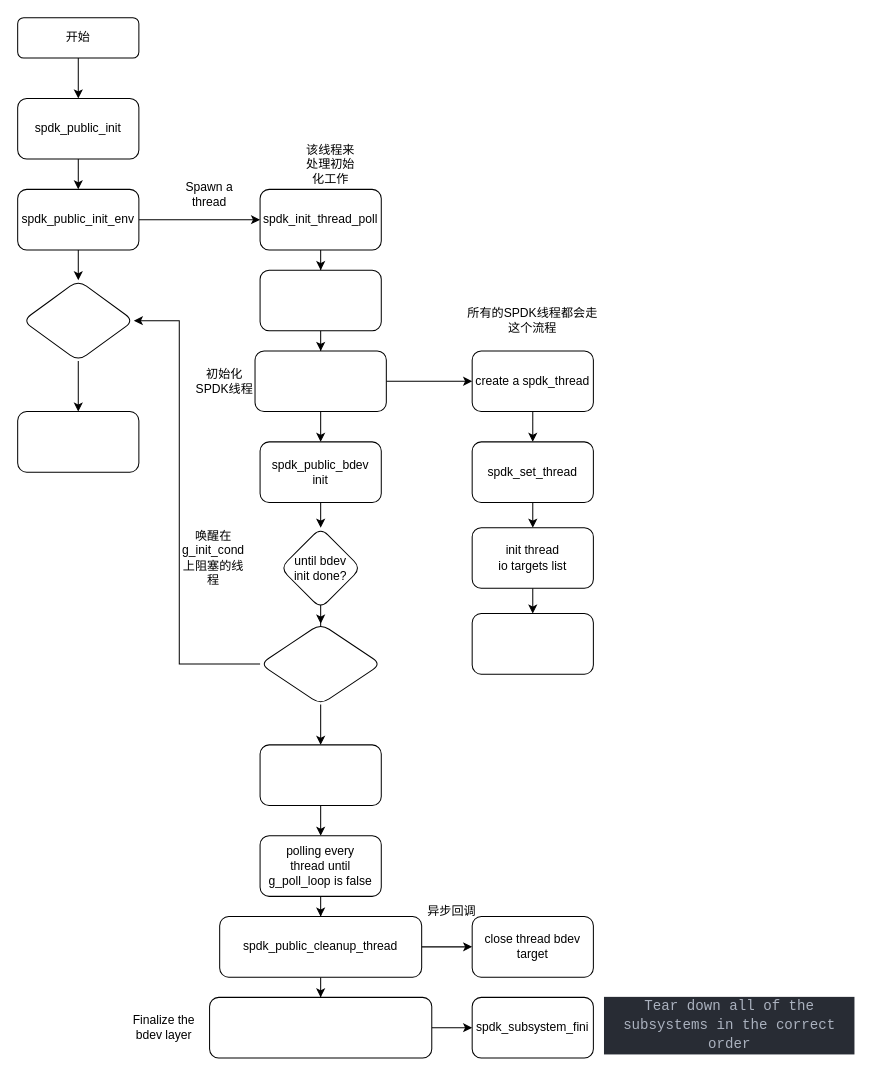
Some shapes in this 874 by 1076 pixel diagram are drawn without their labels. Here are the shapes that lost their labels. From the top down, the centre of each, then its label:
At point 78,320: "wait on g_init_cond".
At point 320,300: "spdk env init spdk thread lib init".
At point 320,381: "spdk_public_init_thread".
At point 320,663: "Continue polling until no more event".
At point 532,643: "insert into g_threads by scheduler".
At point 320,774: "loop".
At point 320,1027: "spdk_public_bdev_fini_start".
